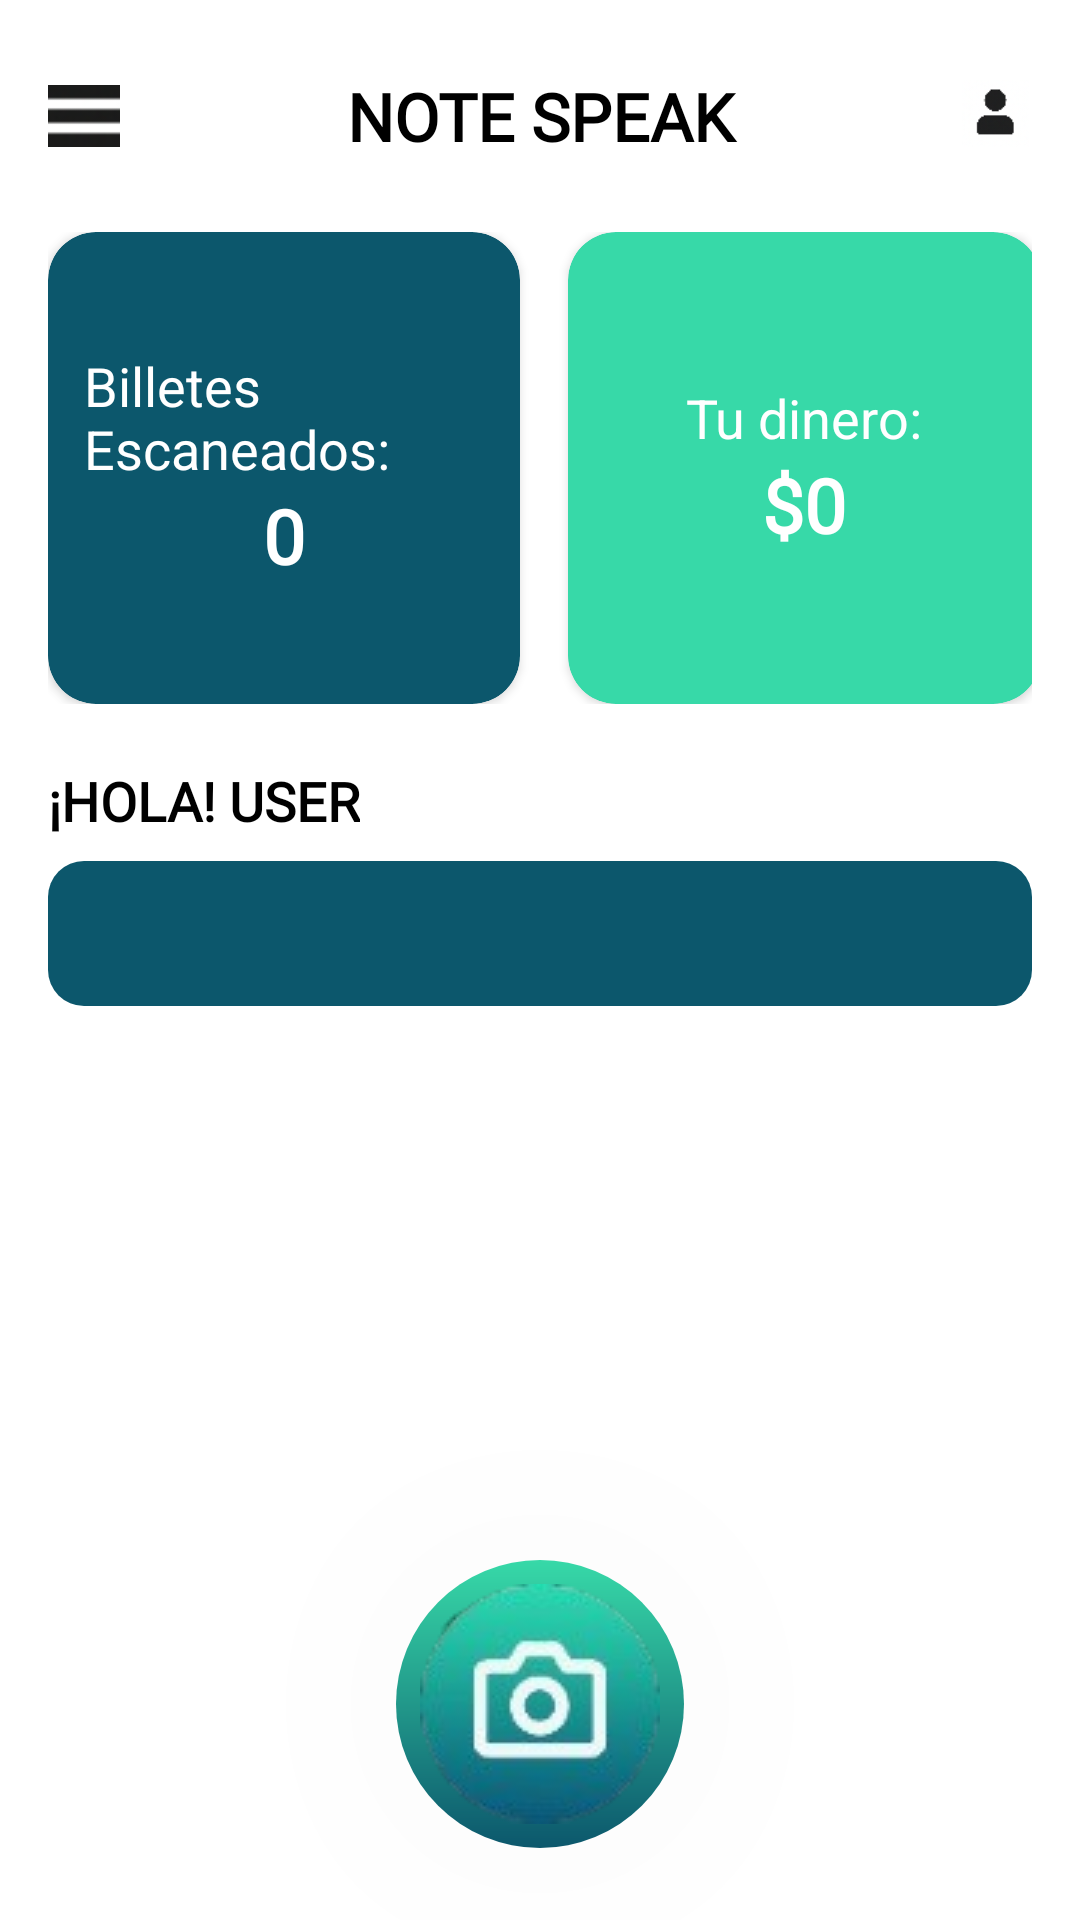

Icon click points for this 1080px×1920px phone screenshot, format (x=x, y=y):
Escanear: (x=540, y=1704)
Menú: (x=84, y=116)
Perfil: (x=995, y=112)
